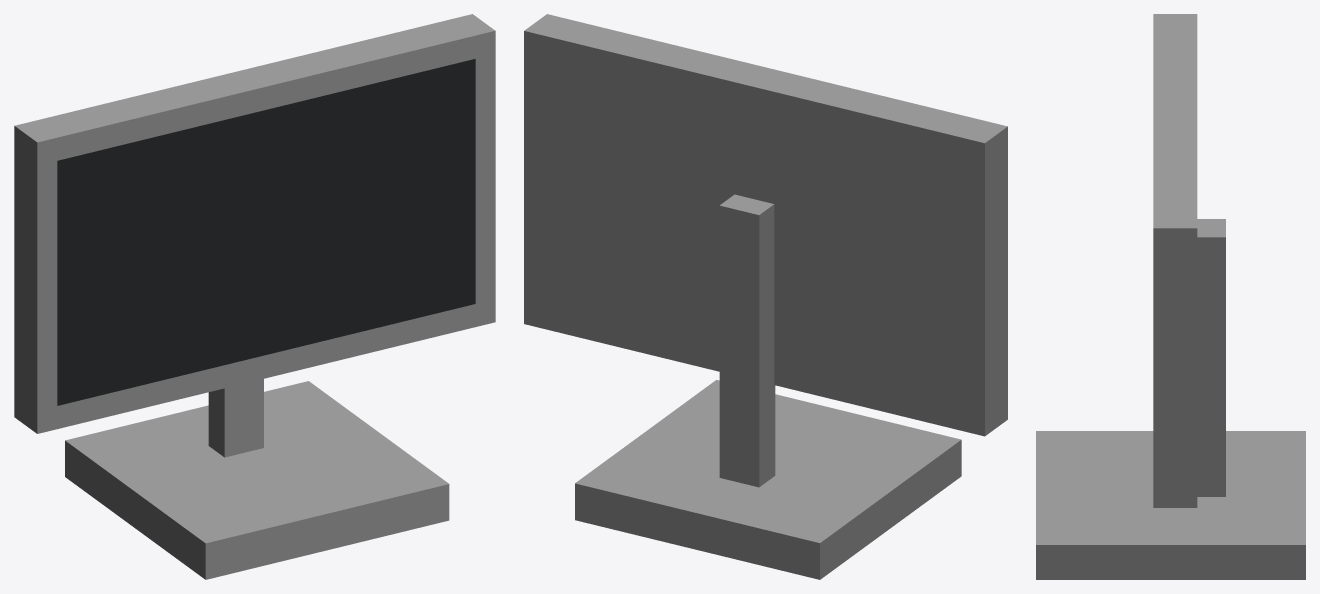
File: SO_Monitor_01.fbx
3 views of the same model, side by side, from view 1: azimuth 30°, elevation 25°; view 2: azimuth 150°, elevation 25°; view 3: azimuth 270°, elevation 25° (orthographic). The views are drawn at different scales.
Parts seen in each view (by area): view 1: SO_Monitor_01; view 2: SO_Monitor_01; view 3: SO_Monitor_01.
Boxes of the visible parts, bbox=[...] form: SO_Monitor_01: bbox=[14, 14, 495, 579]; SO_Monitor_01: bbox=[524, 14, 1007, 579]; SO_Monitor_01: bbox=[1036, 14, 1305, 579].
Bounding box in the file's own units: 1.27 × 1.11 × 0.6764.
